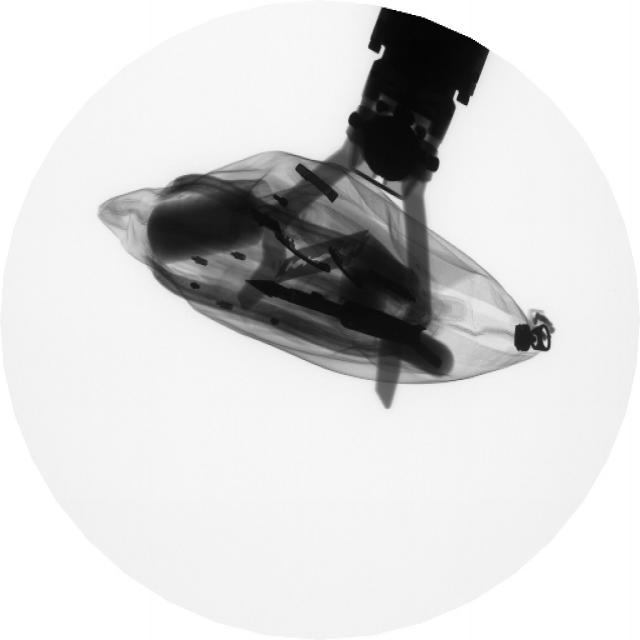GUN: (245, 269, 468, 400), (272, 229, 380, 299)
